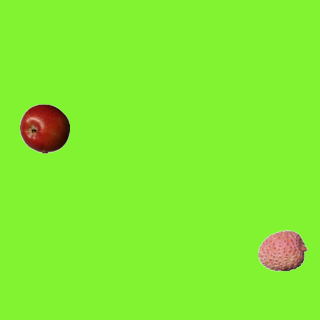Apple Braeburn: (19, 103, 69, 153)
Lychee: (257, 225, 307, 275)
